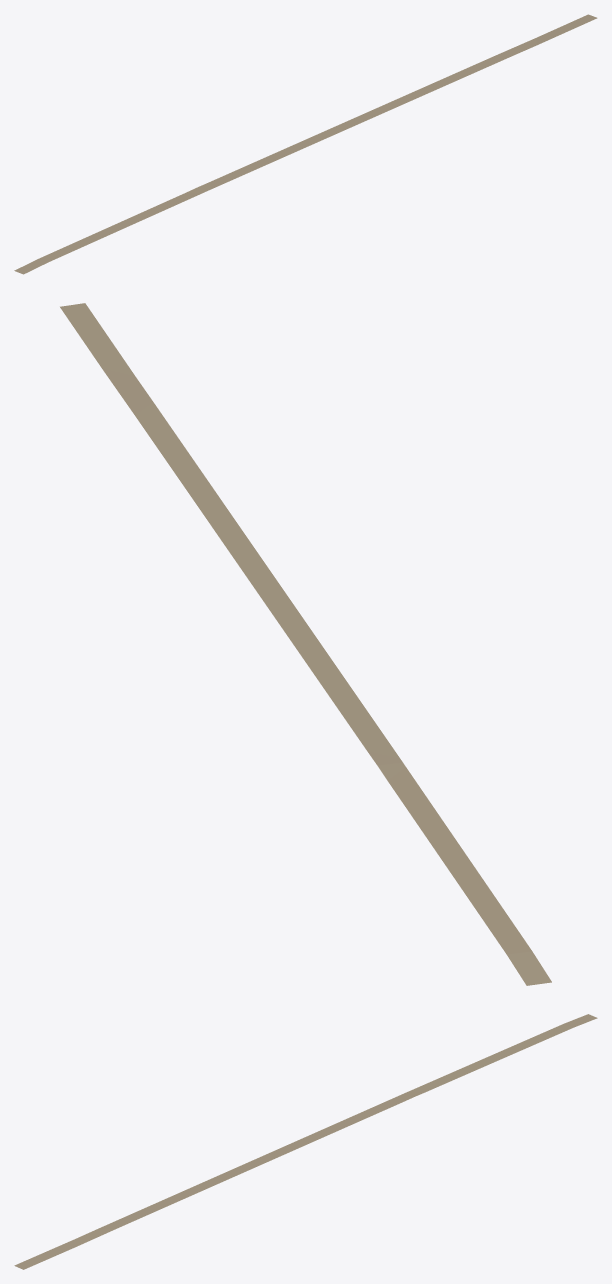
File: farm_9_32_track.glb
3 renders of one model, top to bottom at view 1: azimuth 90°, elevation 25°; view 2: azimuth 150°, elevation 25°; view 3: azimuth 270°, elevation 25°, orthographic. The views are drawn at different scales.
Visible parts, largest first — view 1: geometry_0; view 2: geometry_0; view 3: geometry_0.
Boxes of the visible parts, left/top/right/bottom form: geometry_0: left=14, top=14, right=597, bottom=274; geometry_0: left=60, top=303, right=551, bottom=985; geometry_0: left=14, top=1014, right=597, bottom=1269.
Size of the model in its own units: 150 by 0.7028 by 144.
